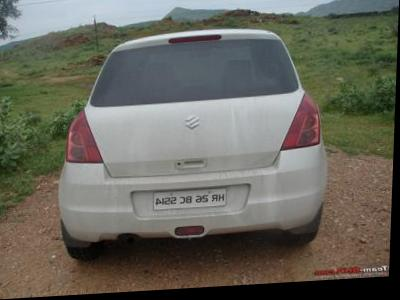License_Plate: (153, 187, 227, 209)
